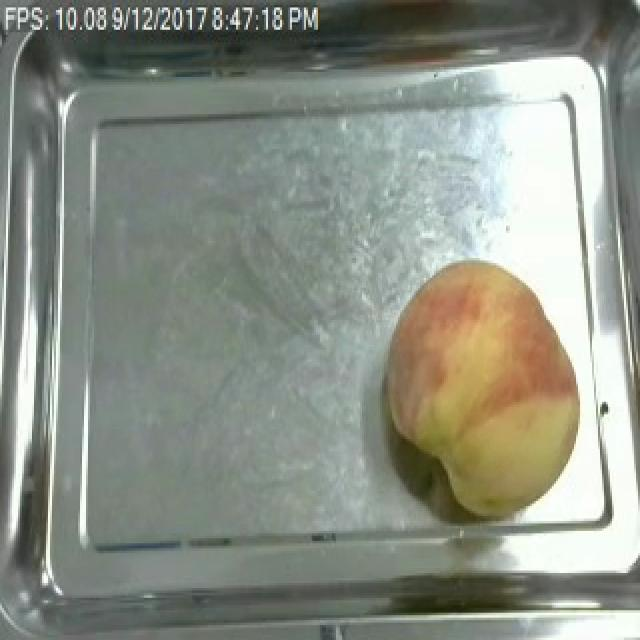Fruit: (376, 251, 594, 524)
